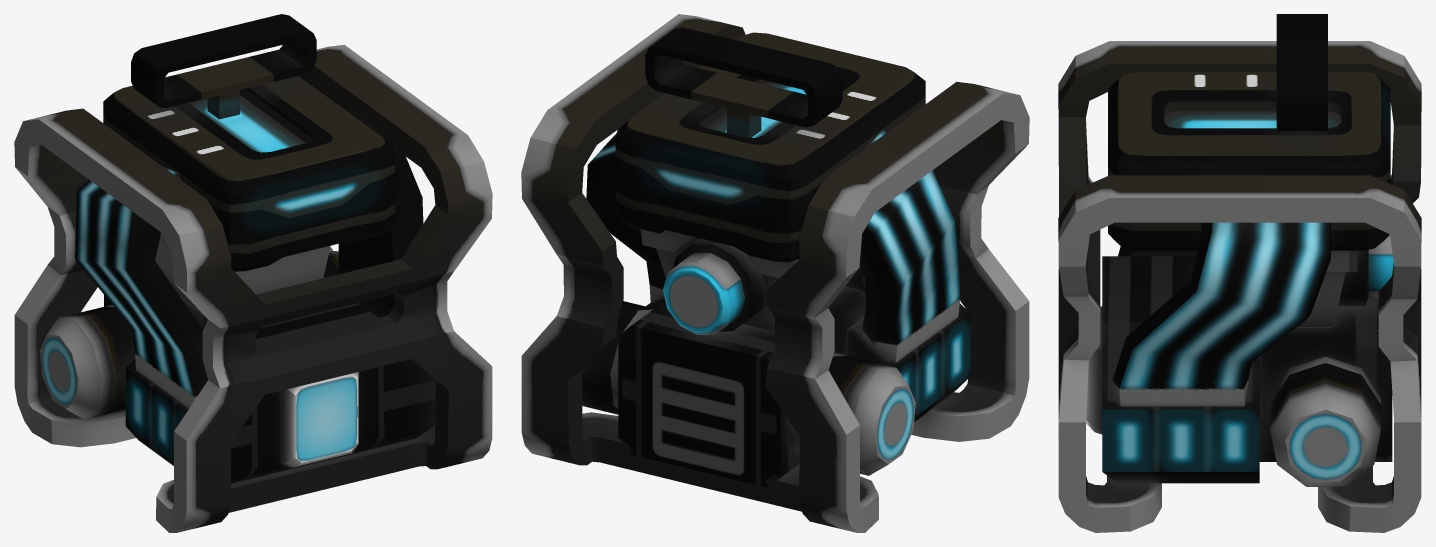
The model's file is obj_interactive_gasengine_05_off.fbx.
3 renders of one model, left to right at view 1: azimuth 30°, elevation 25°; view 2: azimuth 150°, elevation 25°; view 3: azimuth 270°, elevation 25°, orthographic. The views are drawn at different scales.
Visible parts, largest first — view 1: obj_interactive_gasengine_05_off; view 2: obj_interactive_gasengine_05_off; view 3: obj_interactive_gasengine_05_off.
Part boxes in pixels (x1=…): obj_interactive_gasengine_05_off: x1=14, y1=14, x2=492, y2=532; obj_interactive_gasengine_05_off: x1=521, y1=14, x2=1029, y2=532; obj_interactive_gasengine_05_off: x1=1058, y1=14, x2=1421, y2=532.
Bounding box in the file's own units: 2.01 × 2.4 × 1.95.
